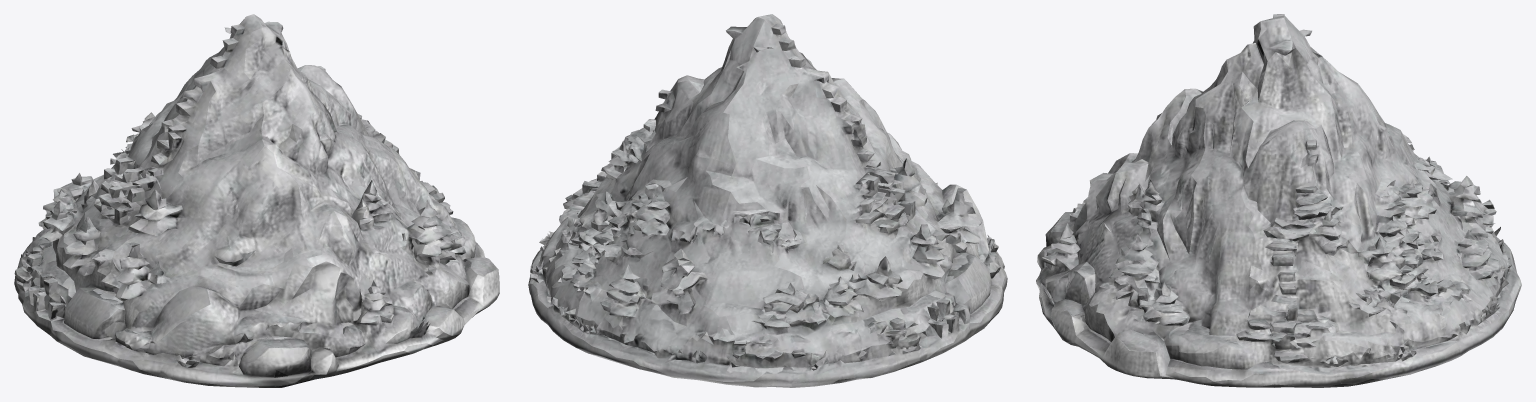
File: mountain-silver.glb
The picture shows the model from 3 angles, left to right: view 1: azimuth 30°, elevation 25°; view 2: azimuth 150°, elevation 25°; view 3: azimuth 270°, elevation 25°; orthographic projection. The views are drawn at different scales.
Parts seen in each view (by area): view 1: geometry_0; view 2: geometry_0; view 3: geometry_0.
Part boxes in pixels (x1,y1,x2,y2): geometry_0: (14,14,499,387); geometry_0: (528,14,1007,387); geometry_0: (1036,14,1521,387).
Bounding box in the file's own units: 0.3 × 0.1895 × 0.3004.
1 material, 1 textured.
